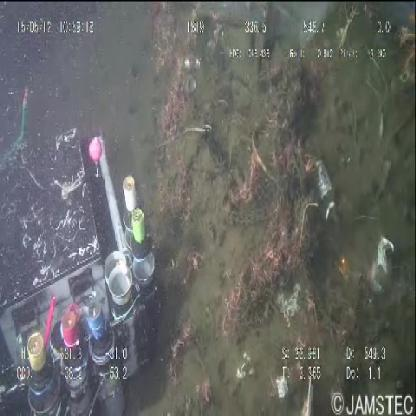Rác: (194, 0, 337, 48)
